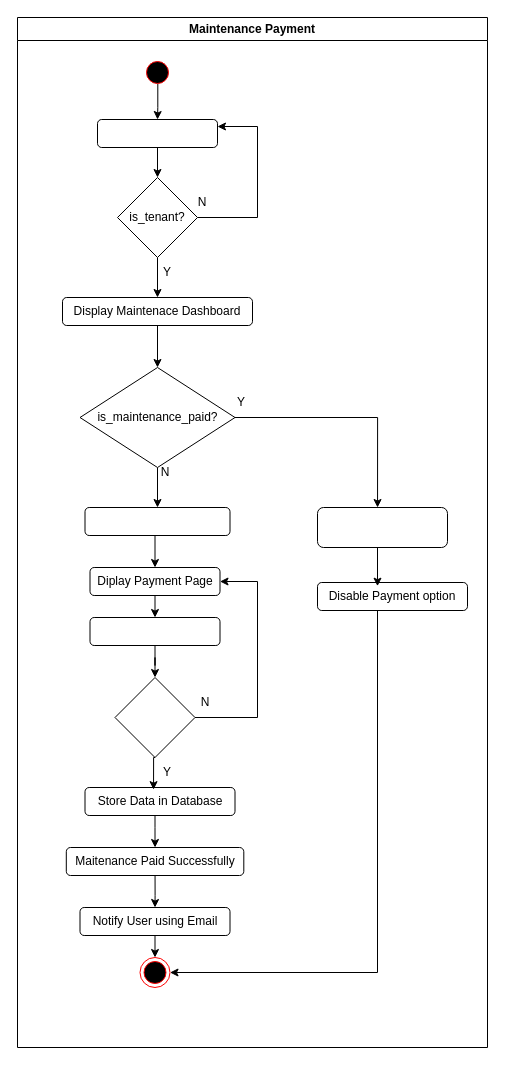
Some shapes in this 505 by 1065 pixel diagram are drawn without their labels. Each missing label, with the box of its shape:
Authentication: (96, 118, 218, 148)
Display Maintenance Already Paid: (316, 506, 448, 548)
Enable Payment Option: (84, 506, 230, 536)
is_success?: (114, 676, 195, 758)
Make Payment: (89, 616, 220, 646)
